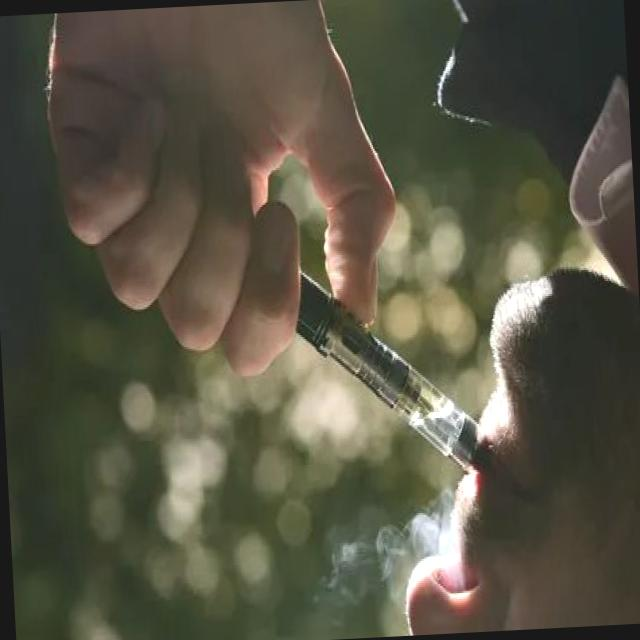cigarette: (282, 233, 496, 488)
